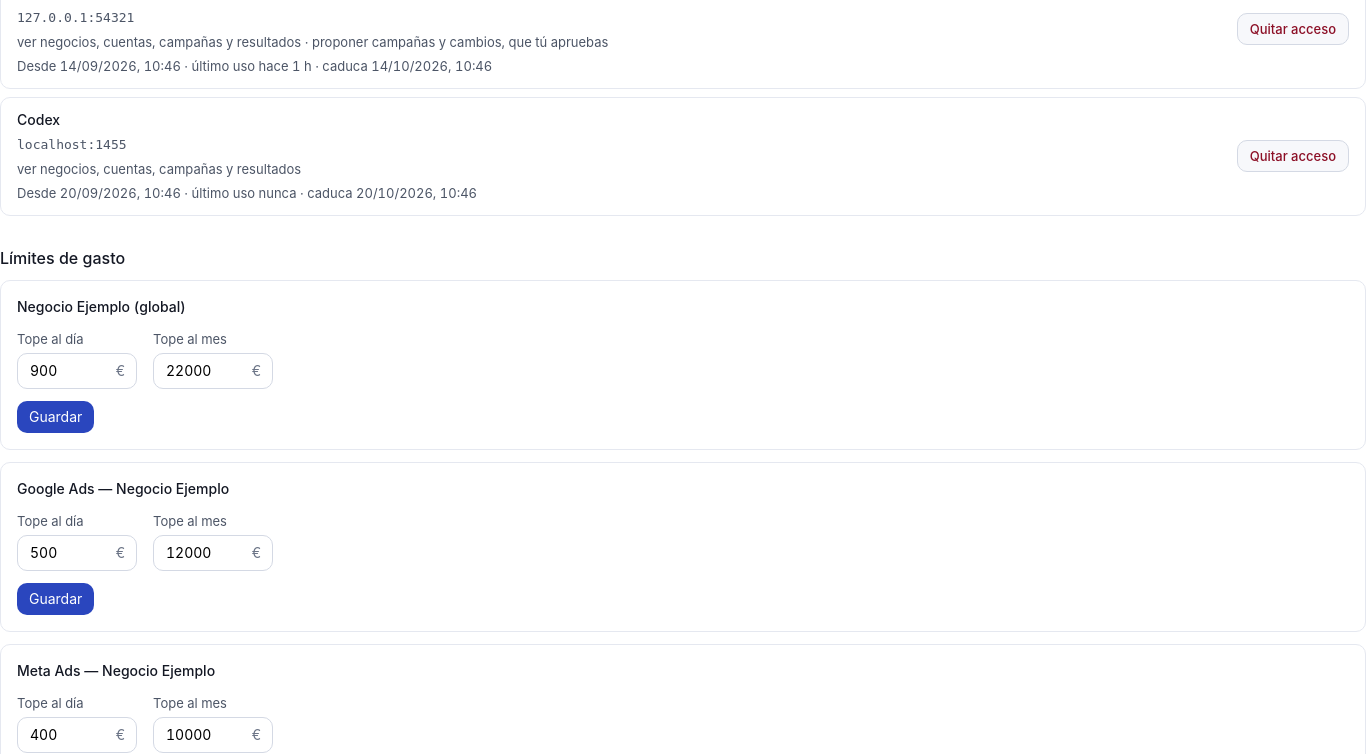
Test: AjustesPage › Límites de gasto: bajar un tope es instantáneo, subirlo pide escribir SUBIR
(page scrolled)
Replace the text in the number field labelled "Tope al día" below "Negocio Ejemplo (global)" with "10" at (77, 371), box 17,353 -> 137,389
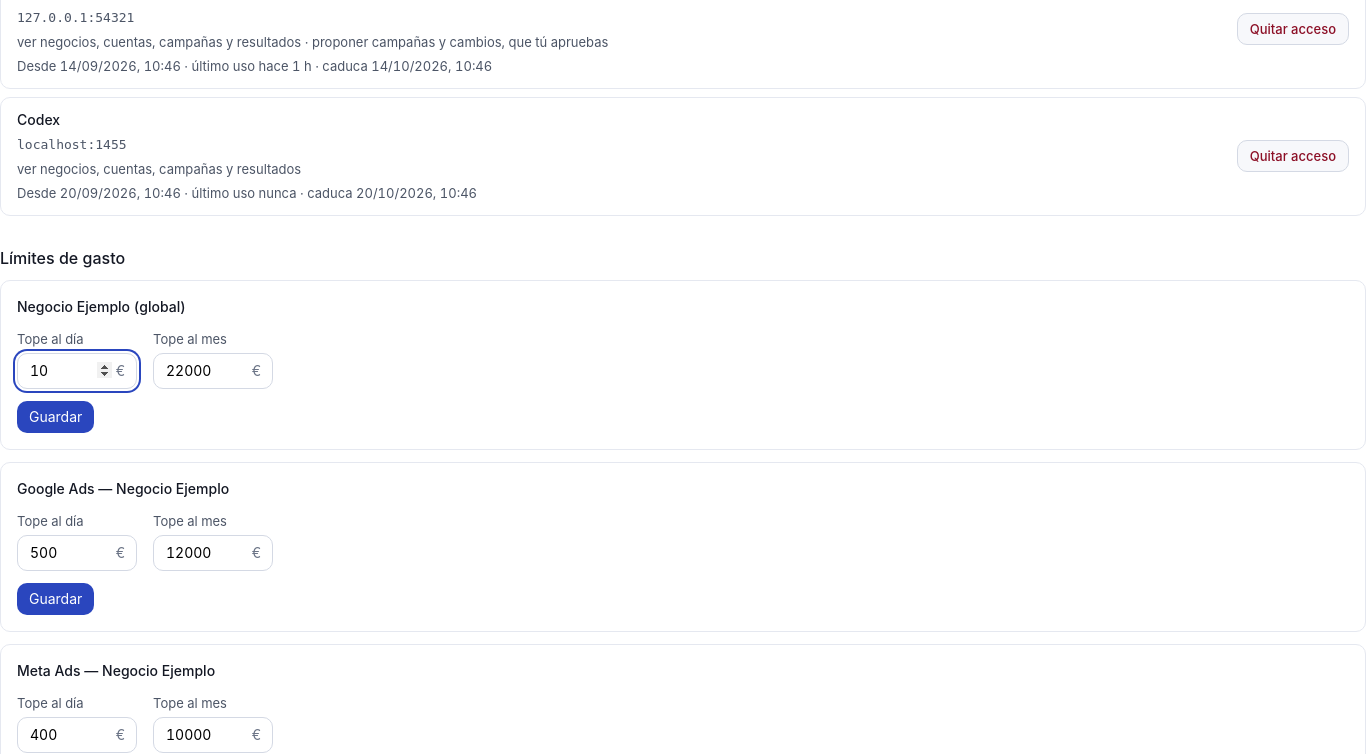
Click the button "Guardar" below "Negocio Ejemplo (global)".
click(56, 417)  # box 17,401 -> 94,433
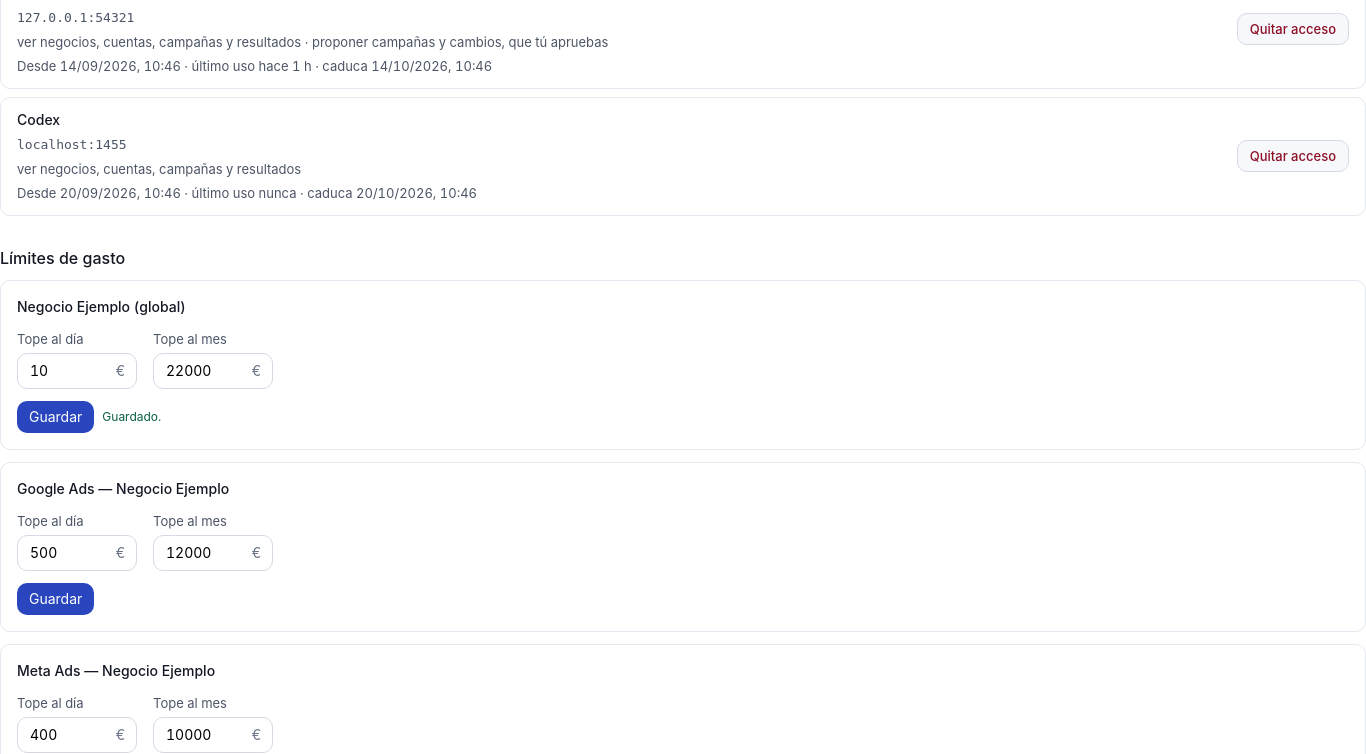
Expected: the text "Guardado." is shown, 102,407 -> 161,427
Replace the text in the number field labelled "Tope al día" below "Negocio Ejemplo (global)" with "999" at (77, 371), box 17,353 -> 137,389
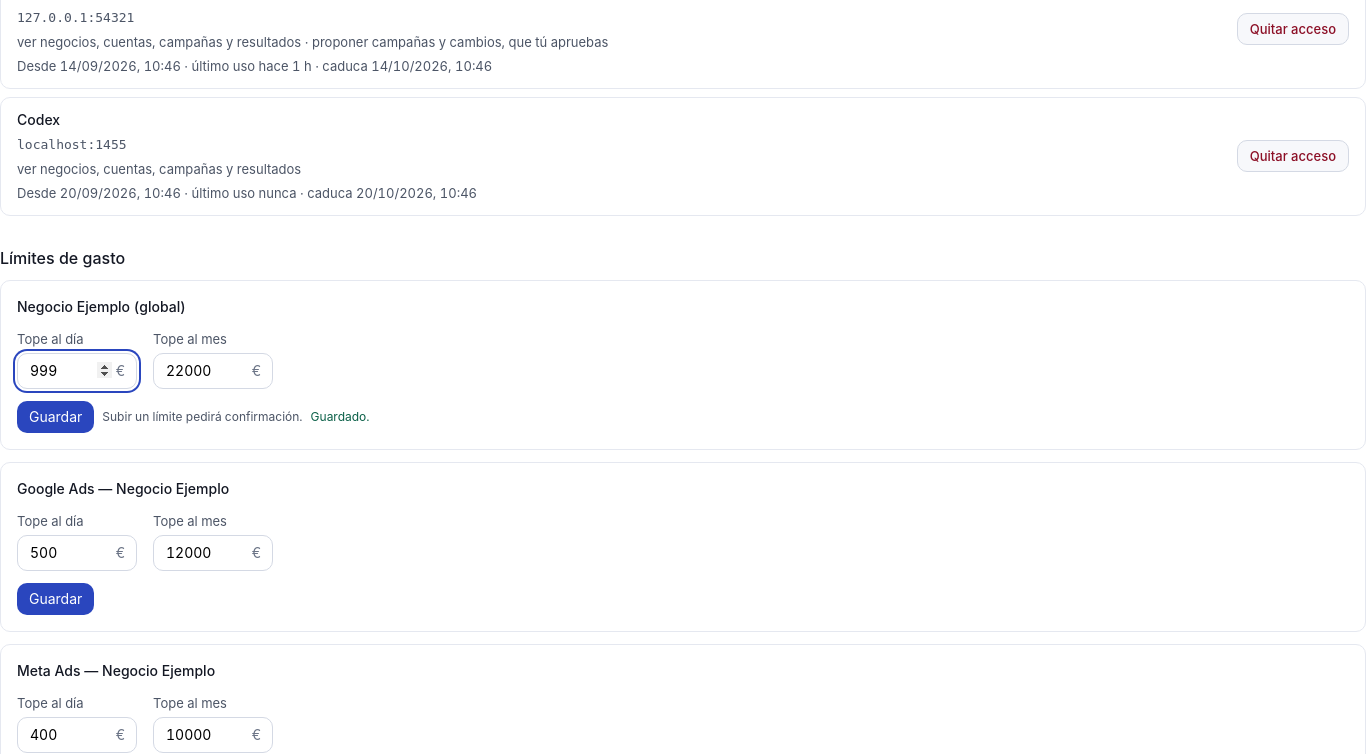
Click the button "Guardar" next to "Subir un límite pedirá confirmación.".
click(56, 417)  # box 17,401 -> 94,433
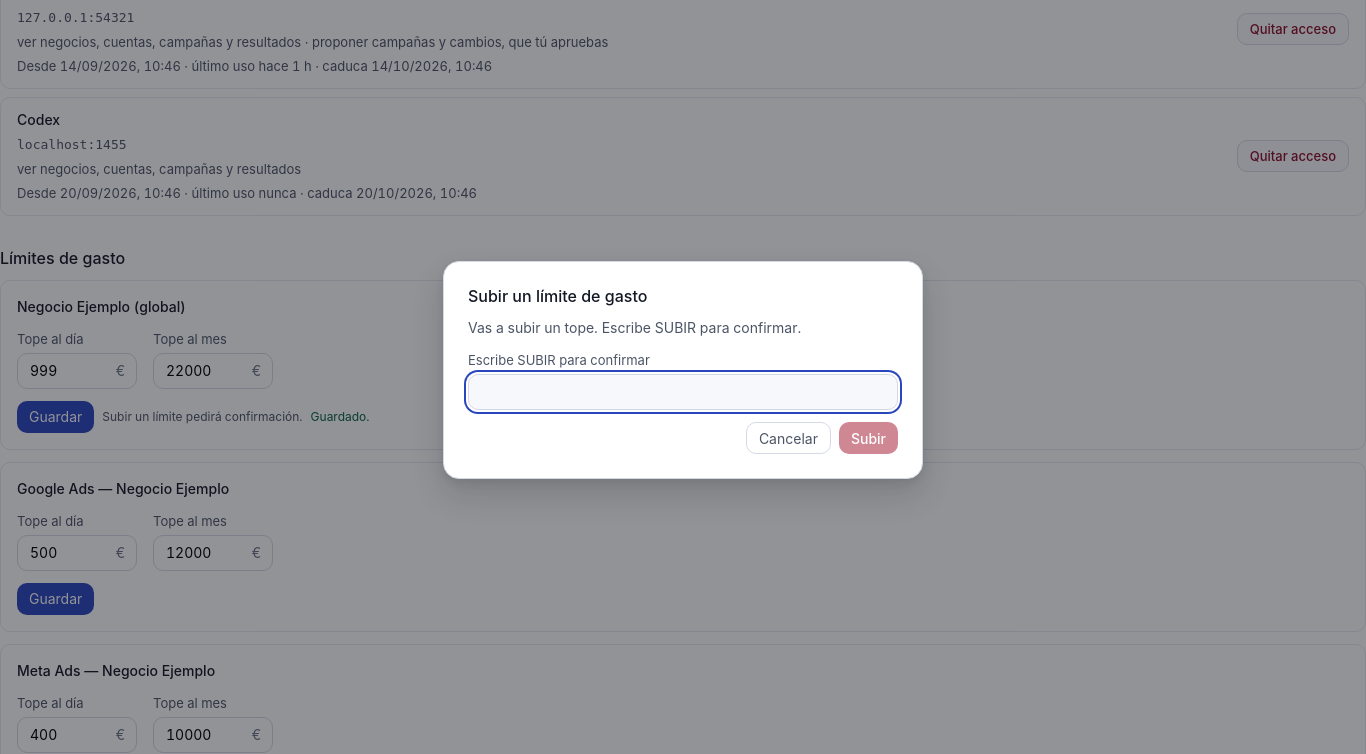
Type "SUBIR" into the field labelled "Escribe SUBIR para confirmar".
click(683, 392); type("SUBIR")  # box 468,374 -> 898,410
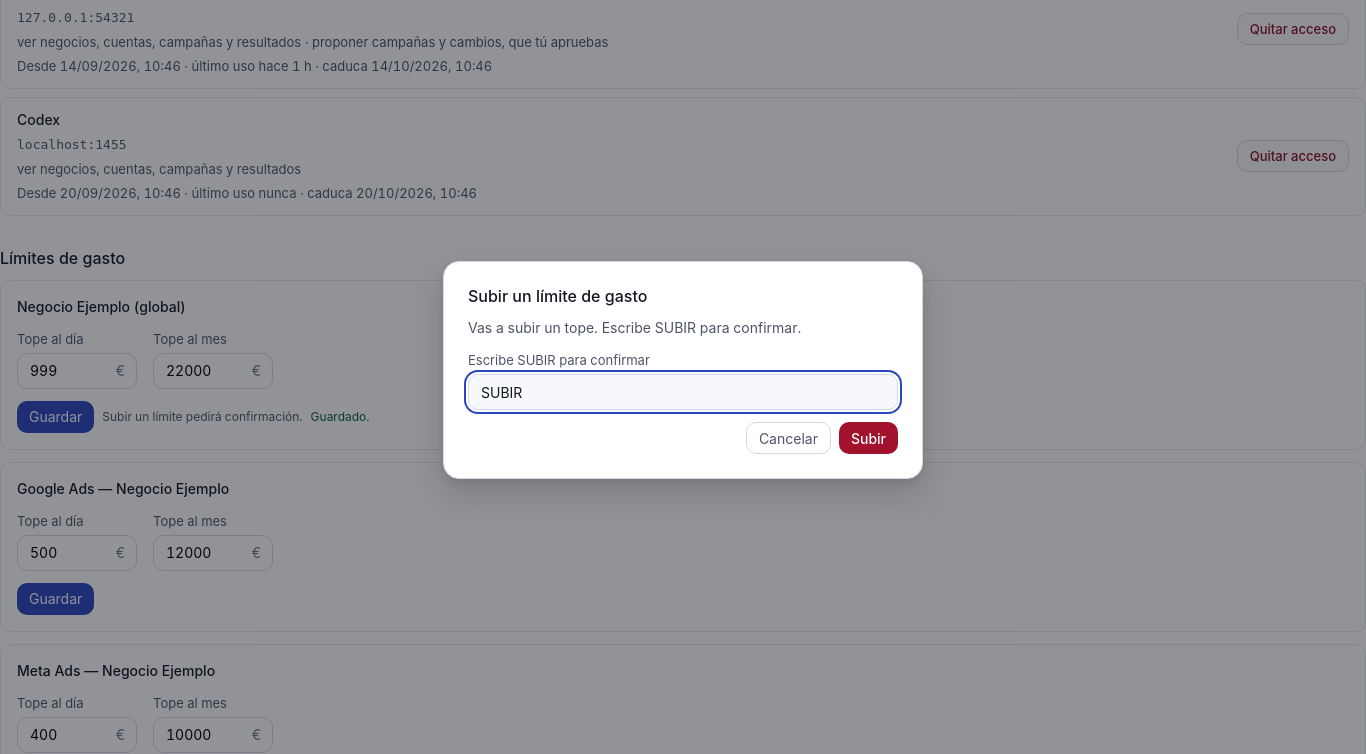
Click the button "Subir".
click(868, 438)  # box 839,422 -> 898,454
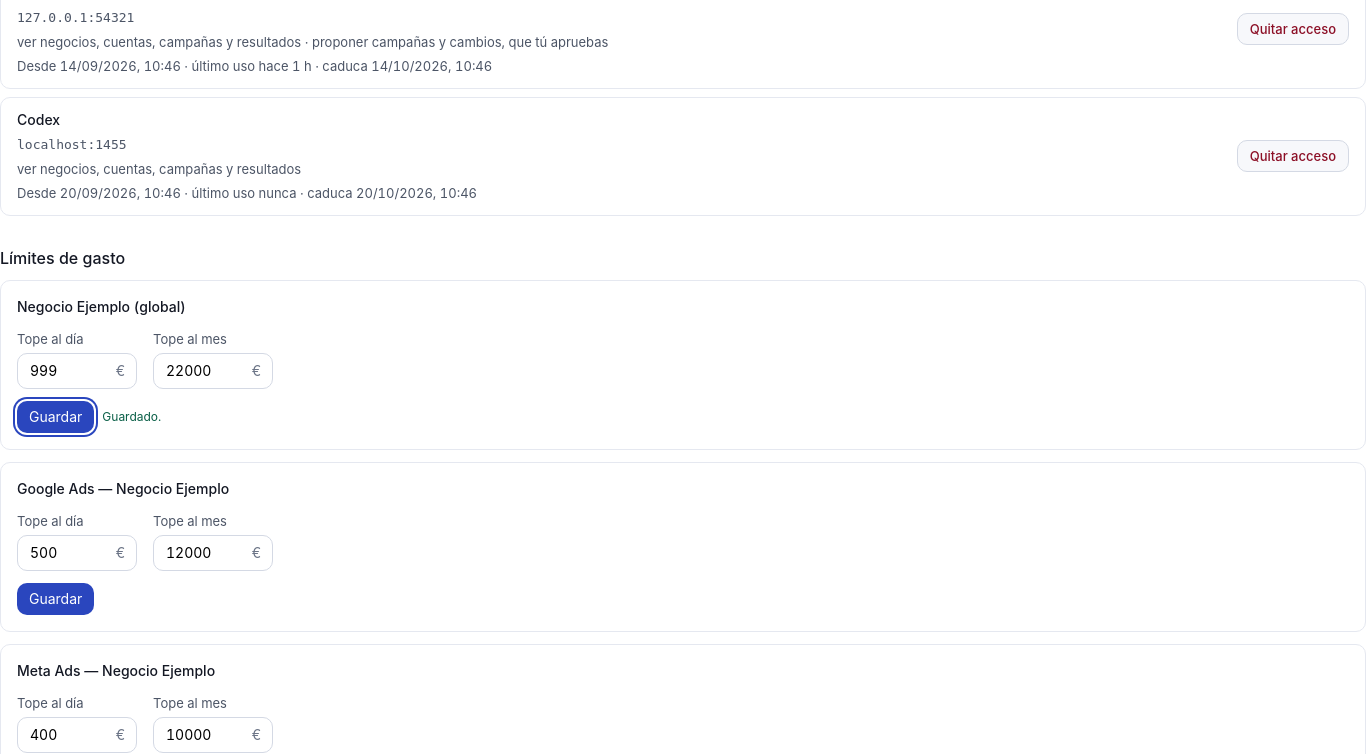
Expected: the dialog is gone
